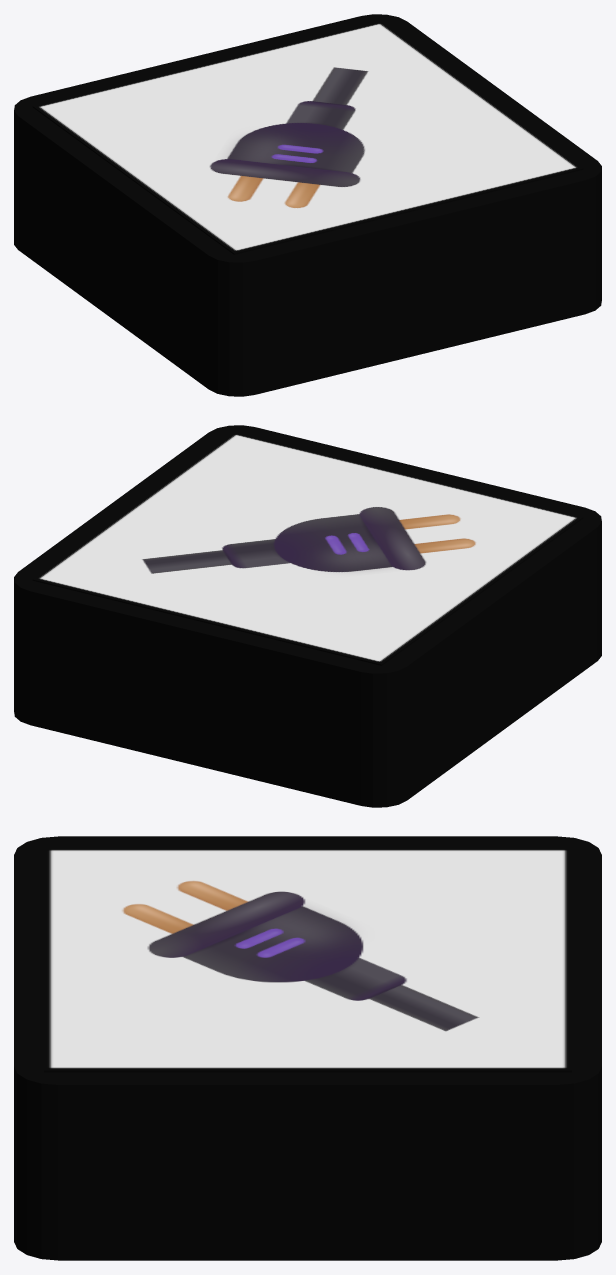
3 views of the same model, one above another, from view 1: azimuth 30°, elevation 25°; view 2: azimuth 150°, elevation 25°; view 3: azimuth 270°, elevation 25° (orthographic). The views are drawn at different scales.
Visible parts, largest first — view 1: base_link.001; view 2: base_link.001; view 3: base_link.001.
Boxes of the visible parts, x1,y1,x2,y2 form: base_link.001: (14,14,601,396); base_link.001: (14,425,601,807); base_link.001: (14,836,601,1260).
Size of the model in its own units: 0.0848 by 0.0848 by 0.0282.
Materials: 1 (1 with a texture image).
